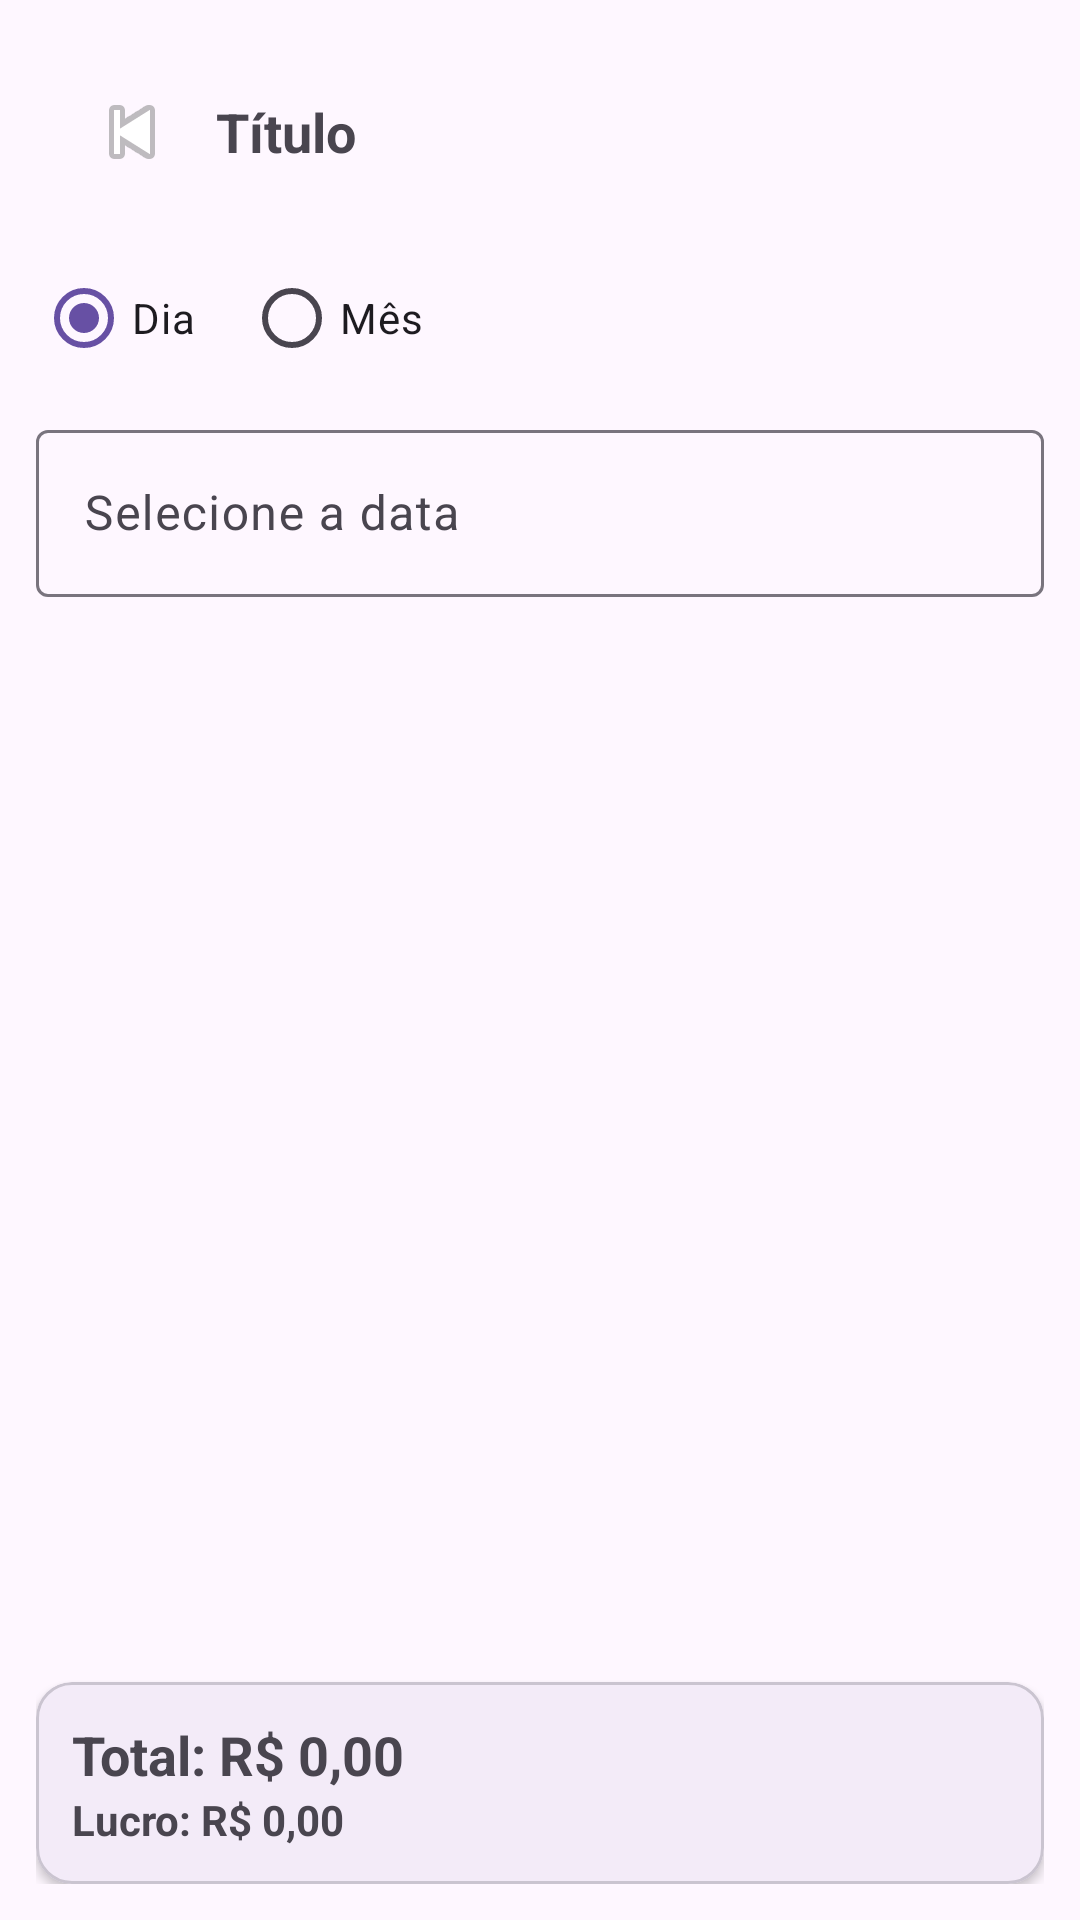

Icon bounding boxes for this 1080 x 1920 phone screenshot, format (x1, y1, x2, y2):
Voltar: (109, 105, 155, 159)
